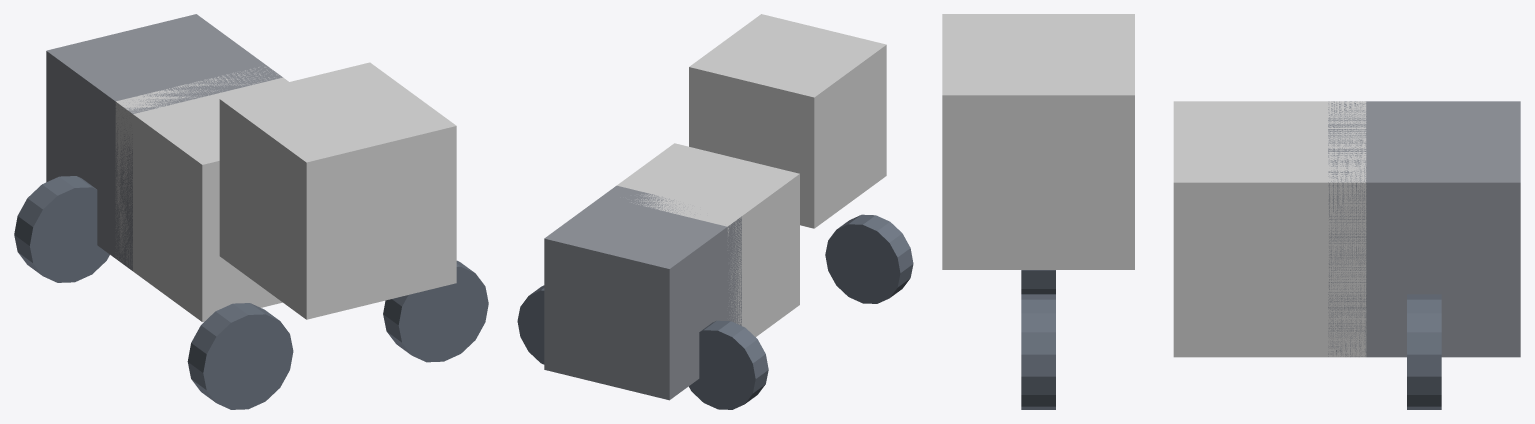
The model's file is veh_tempo_white.glb.
The picture shows the model from 3 angles, left to right: view 1: azimuth 30°, elevation 25°; view 2: azimuth 150°, elevation 25°; view 3: azimuth 270°, elevation 25°; orthographic projection. The views are drawn at different scales.
Parts seen in each view (by area): view 1: world; view 2: world; view 3: world.
Part boxes in pixels (x1,y1,x2,y2): world: [14, 14, 488, 409]; world: [517, 14, 913, 409]; world: [942, 14, 1520, 409].
Size of the model in its own units: 1.9 by 1.7 by 3.
